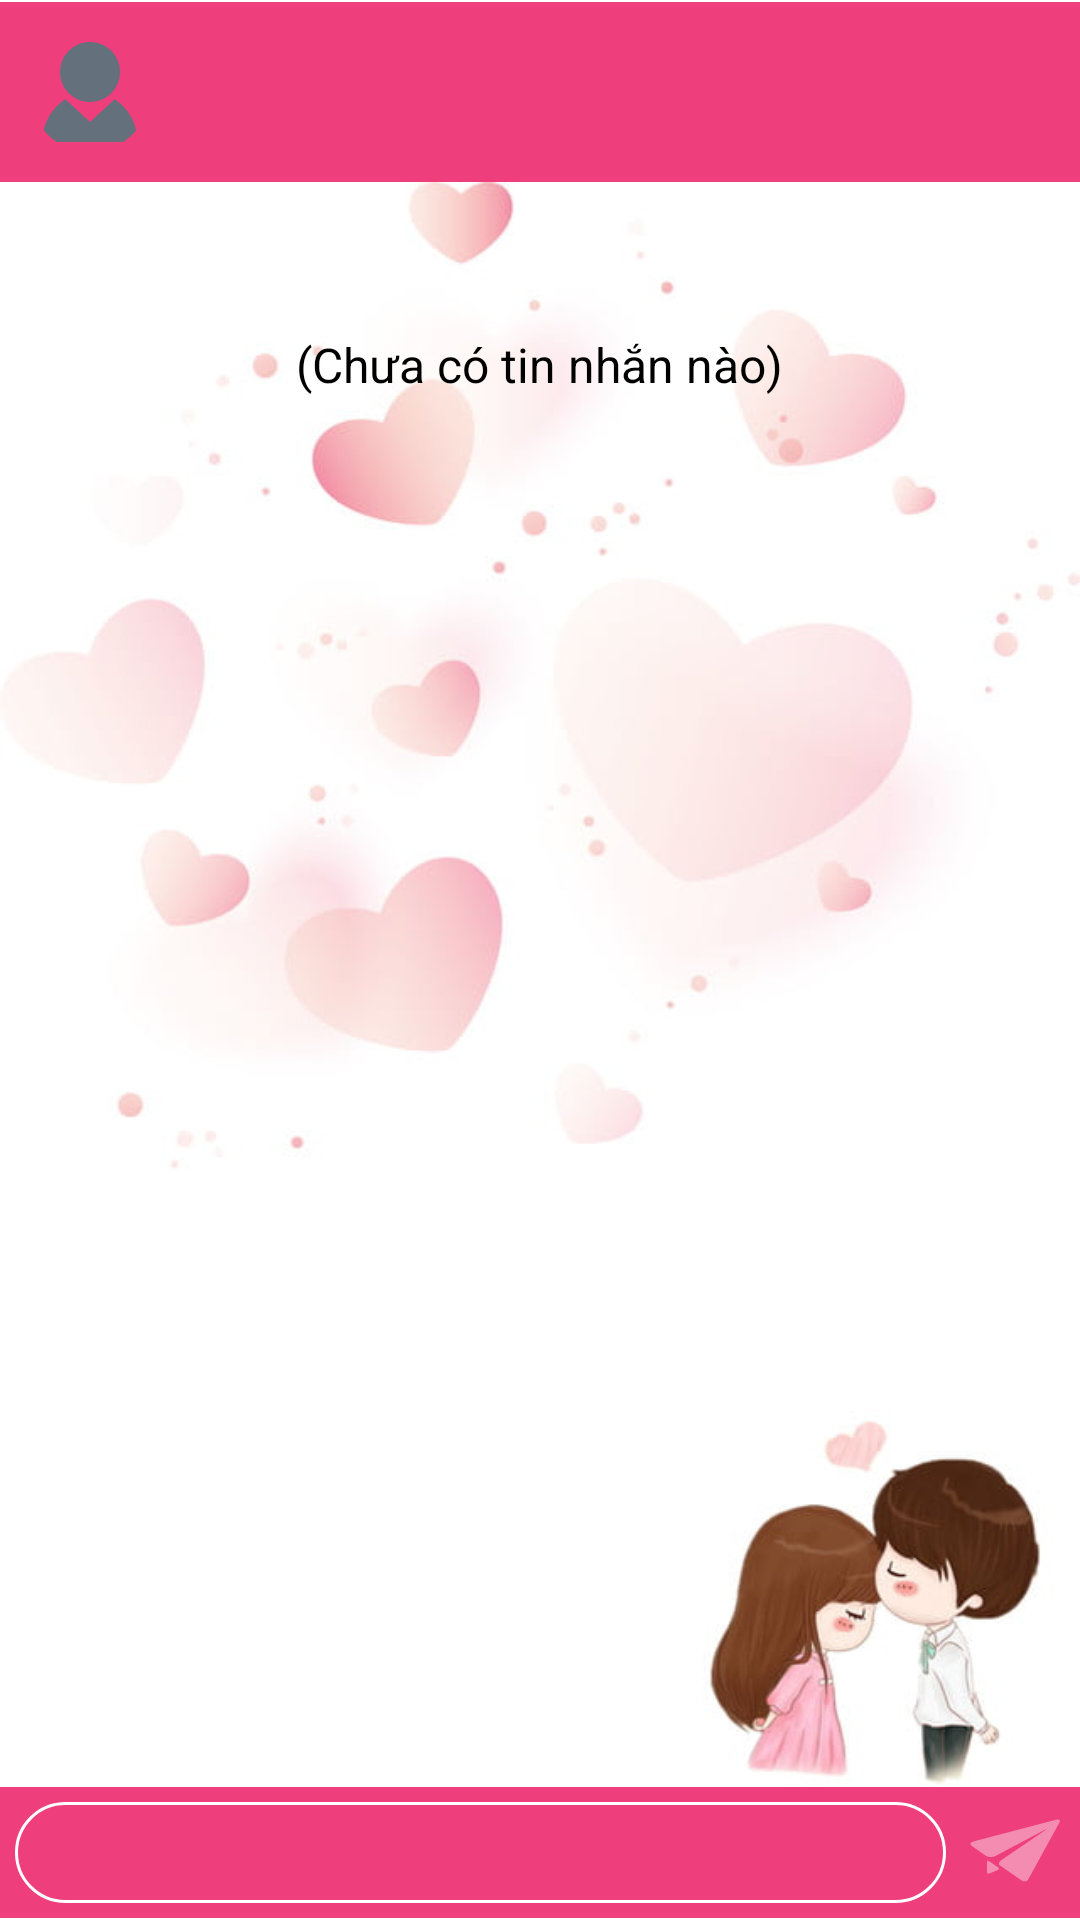

Where to tap for icons on this 1080×1920 app screen, as point (x, y):
account: point (90, 92)
send: point (1015, 1850)
